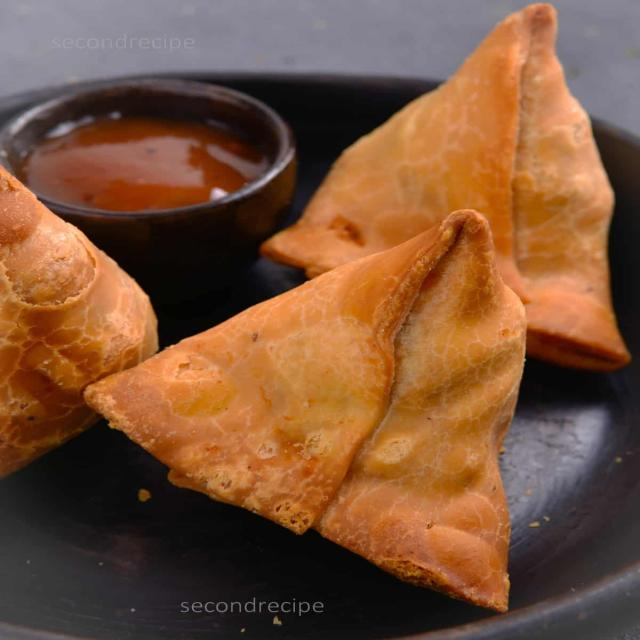SAMOSA: (85, 211, 525, 611), (261, 5, 629, 370), (0, 167, 158, 478)
